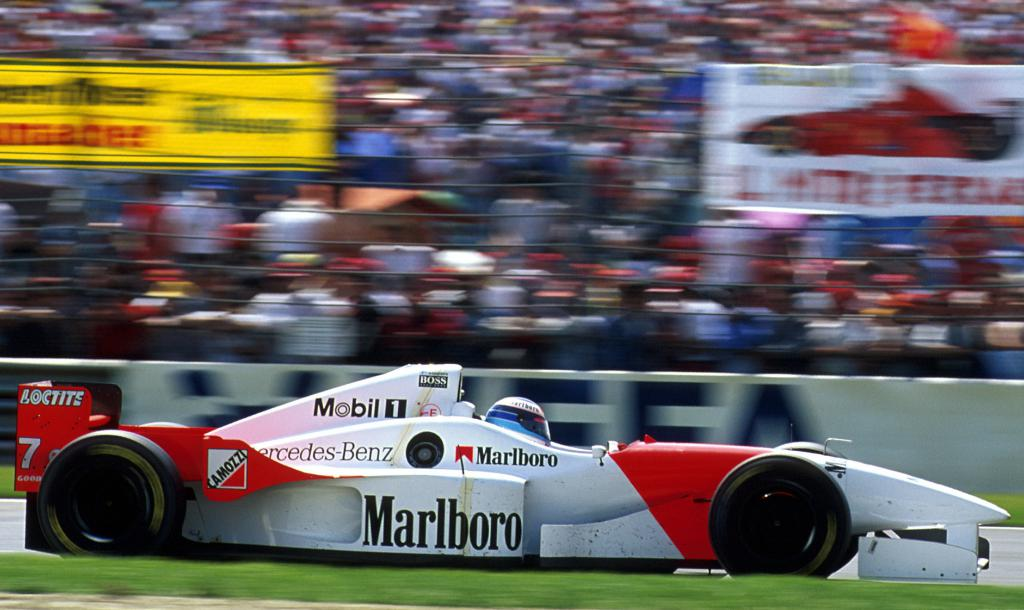person: (143, 264, 272, 362)
